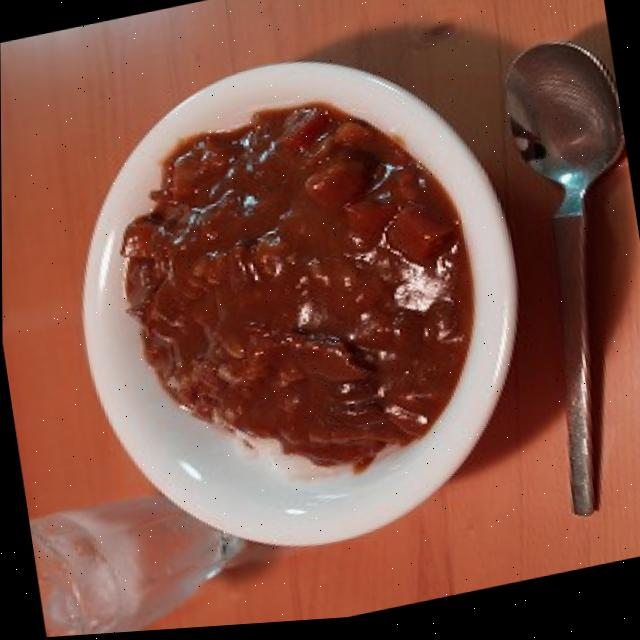牛肉菜式: (43, 22, 552, 590)
